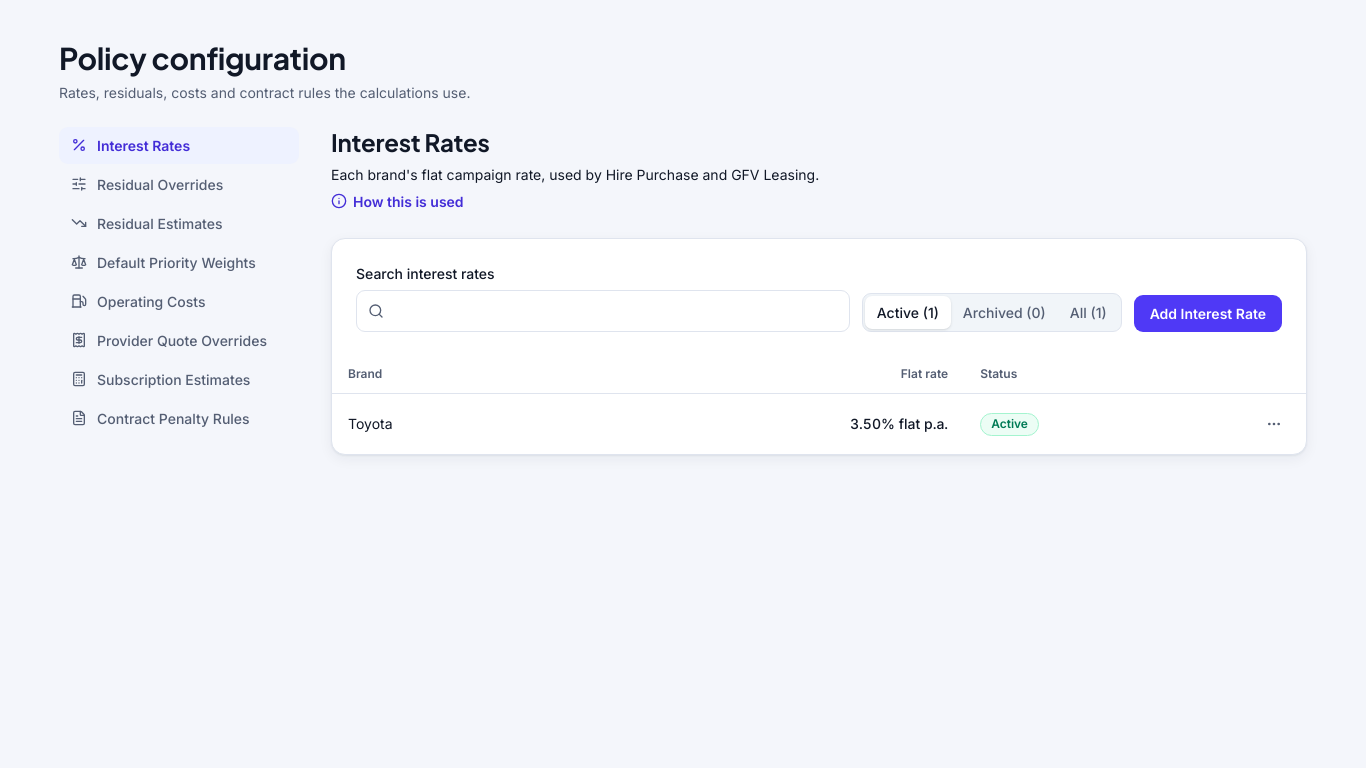
AdminPolicyPage › preserves valid fields and shows the exact server message when adding an interest rate fails
The width and height of the screenshot is (1366, 768).
Expected: the text "3.50% flat p.a." is shown, [566,394,964,454]
Click the button "Add Interest Rate" at (1208, 314), box [1134,295,1282,332]
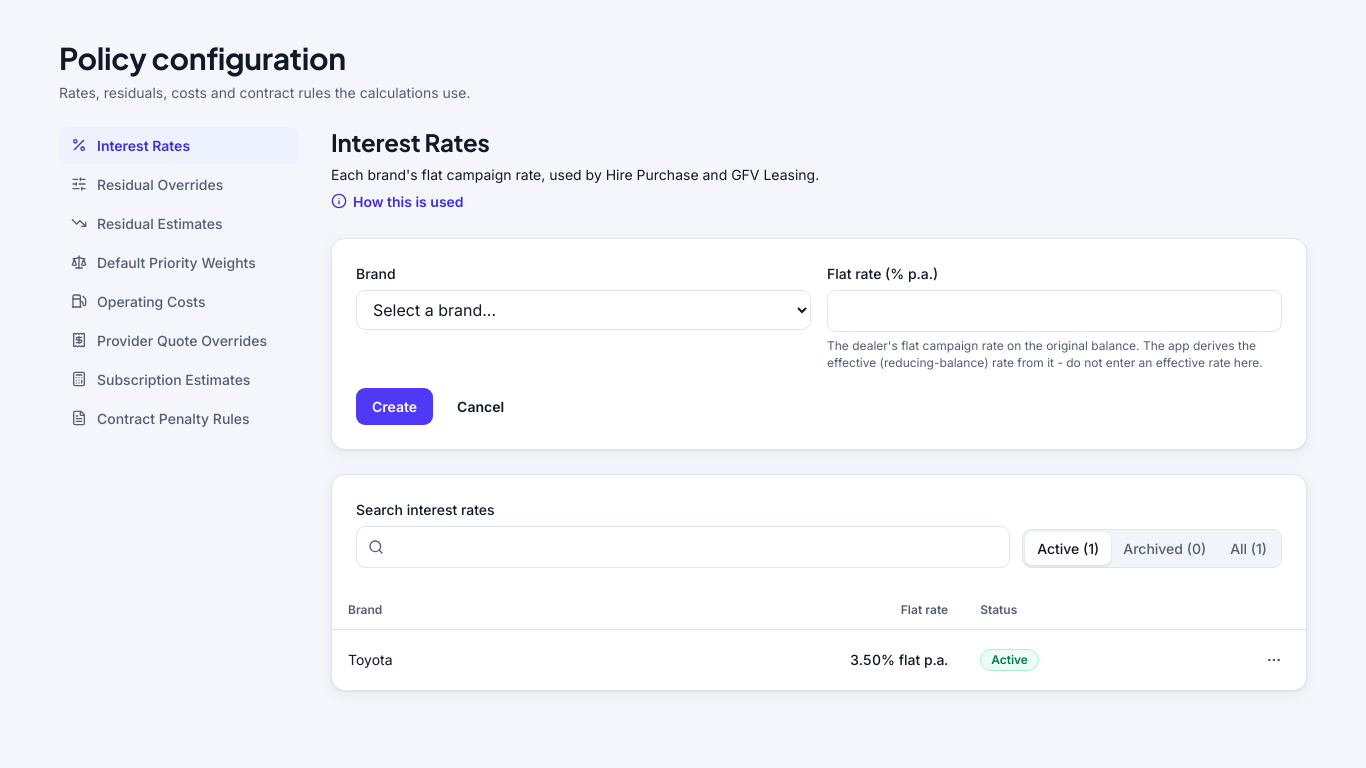
Select "Toyota" in the dropdown labelled "Brand" at (584, 310), box [356,290,811,330]
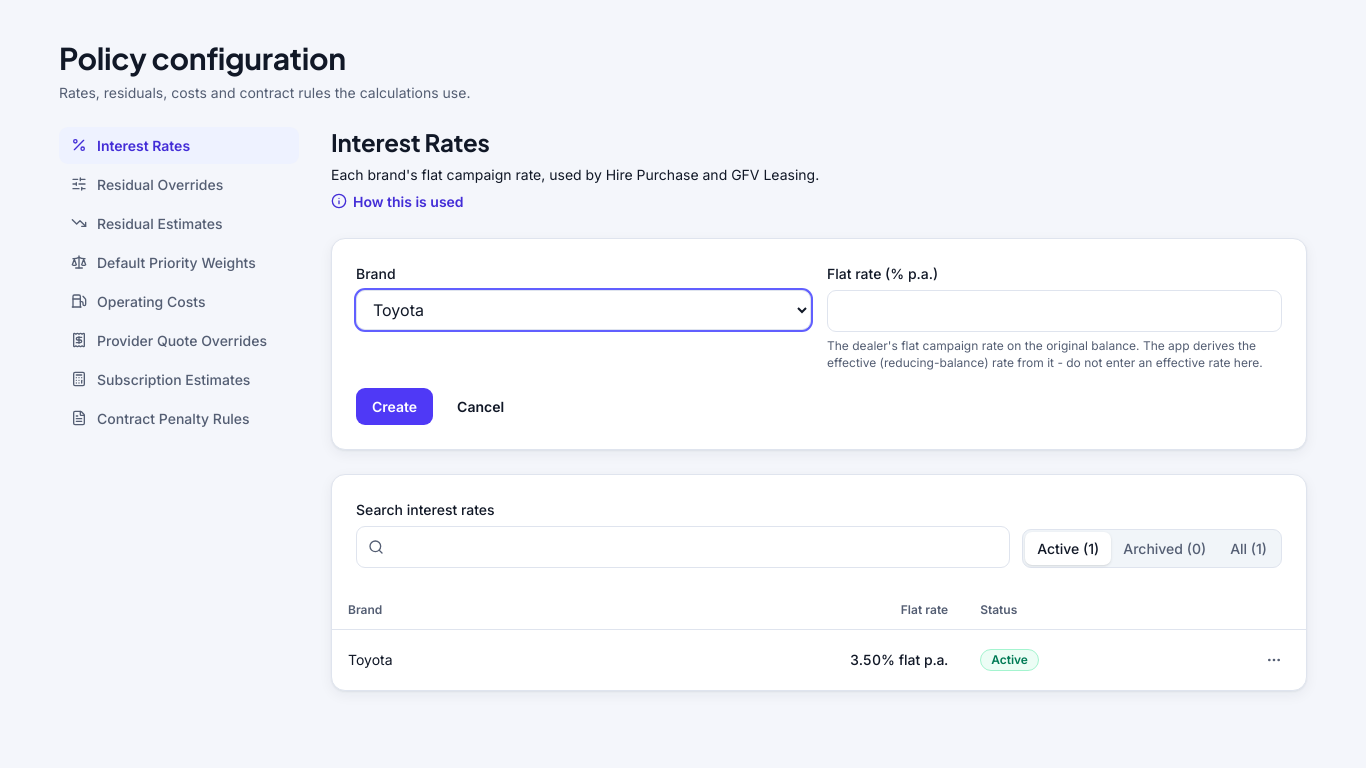
Type "20.00" into the field labelled "Flat rate (% p.a.)" at (1054, 311), box [827,290,1282,332]
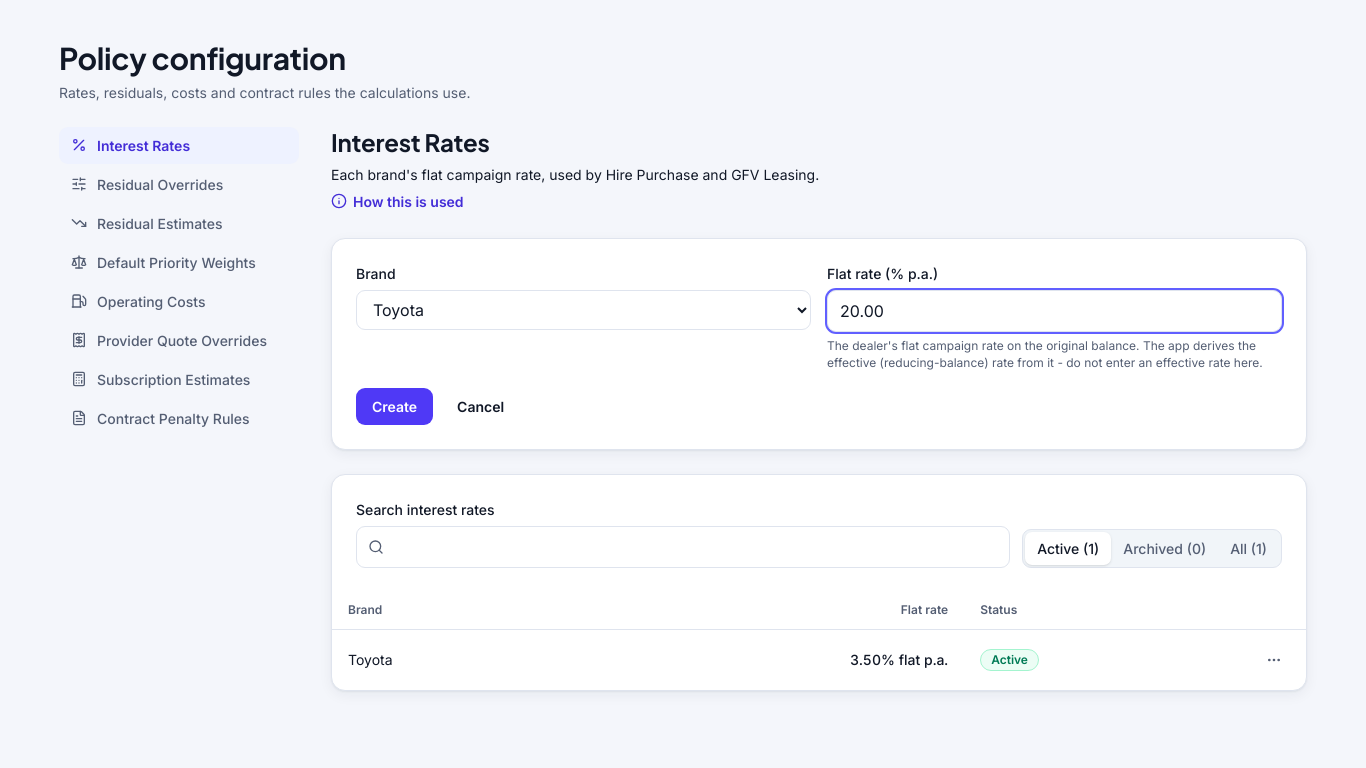
Click the button "Create" at (395, 406), box [356,388,433,425]
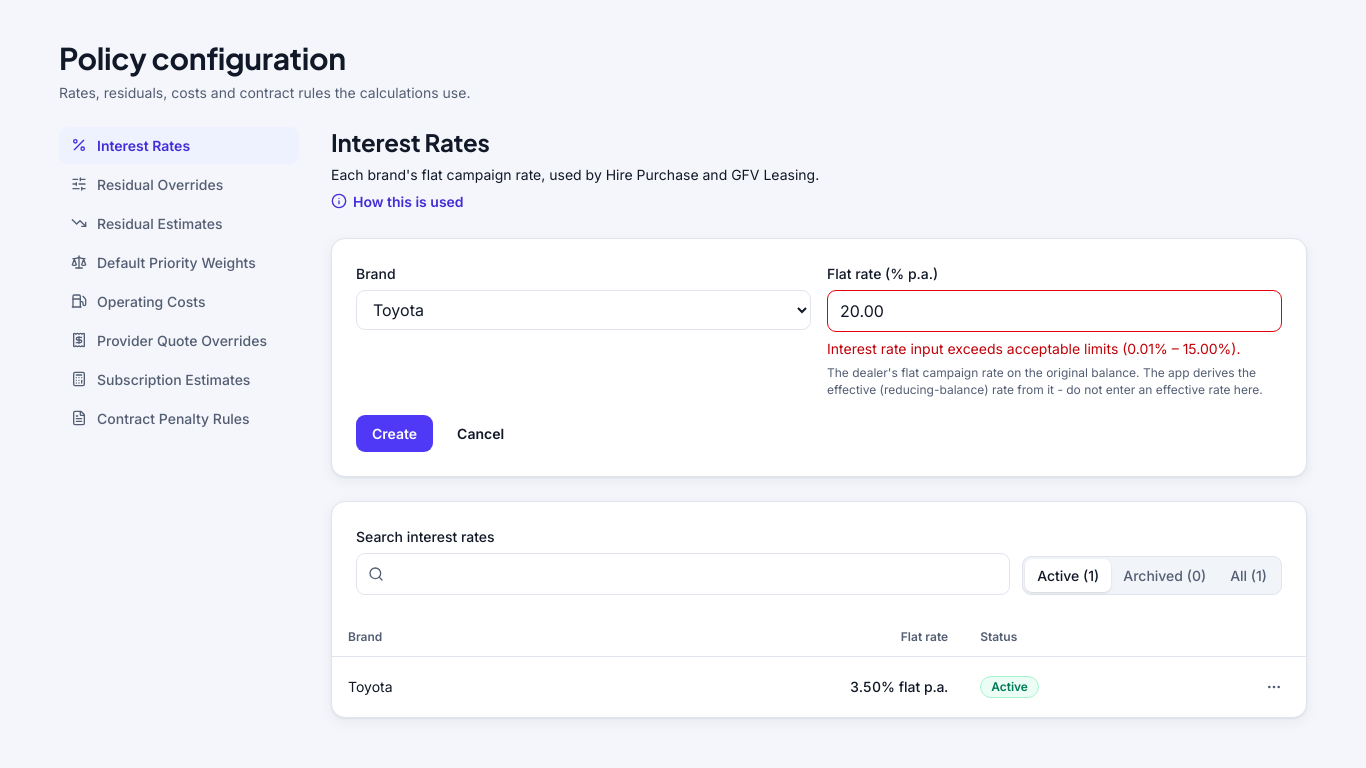
Expected: the text "Interest rate input exceeds acceptable limits (0.01% – 15.00%)." is shown, [827,338,1282,359]
